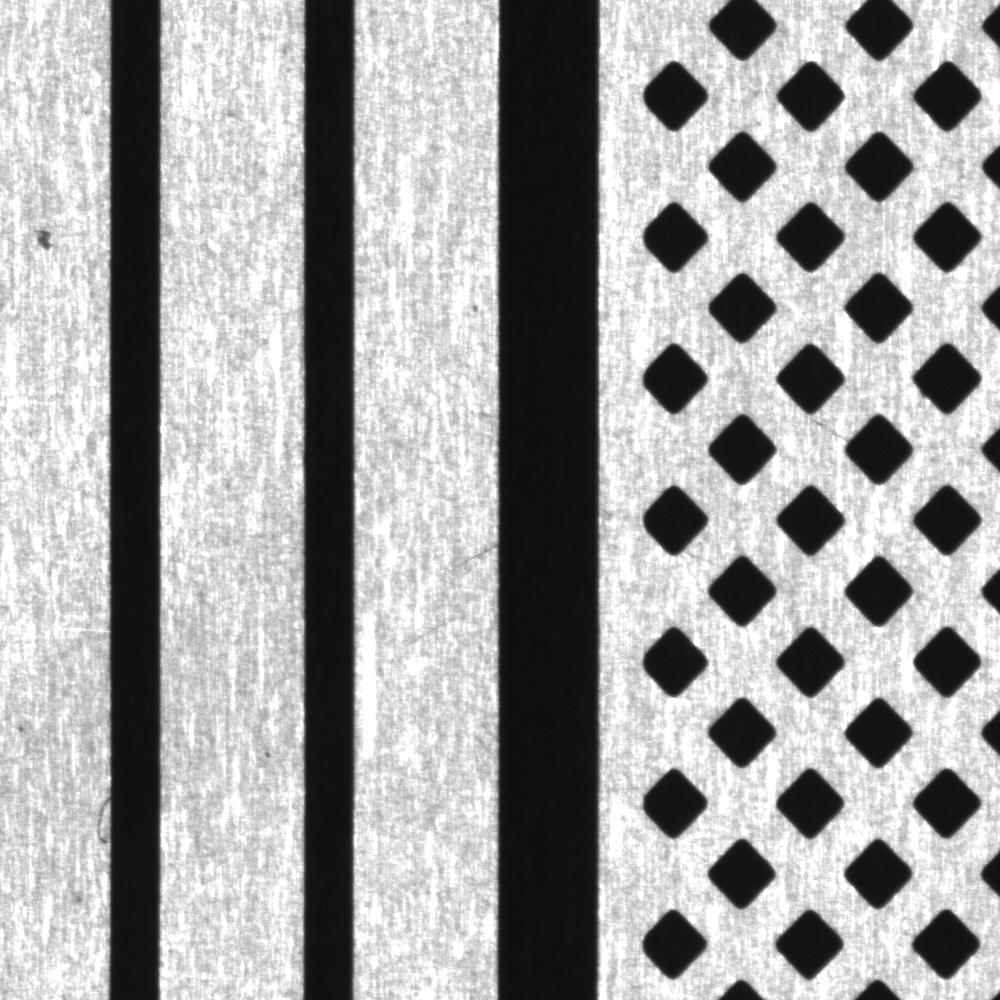Etching: (24, 221, 60, 255), (259, 740, 283, 766), (10, 719, 31, 738)
Pinhole: (464, 298, 489, 323)
Scar: (390, 610, 470, 650), (425, 541, 499, 583), (90, 788, 111, 853)
